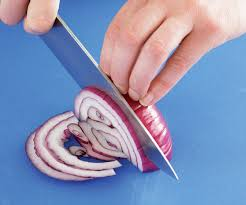knife: (4, 1, 182, 185)
